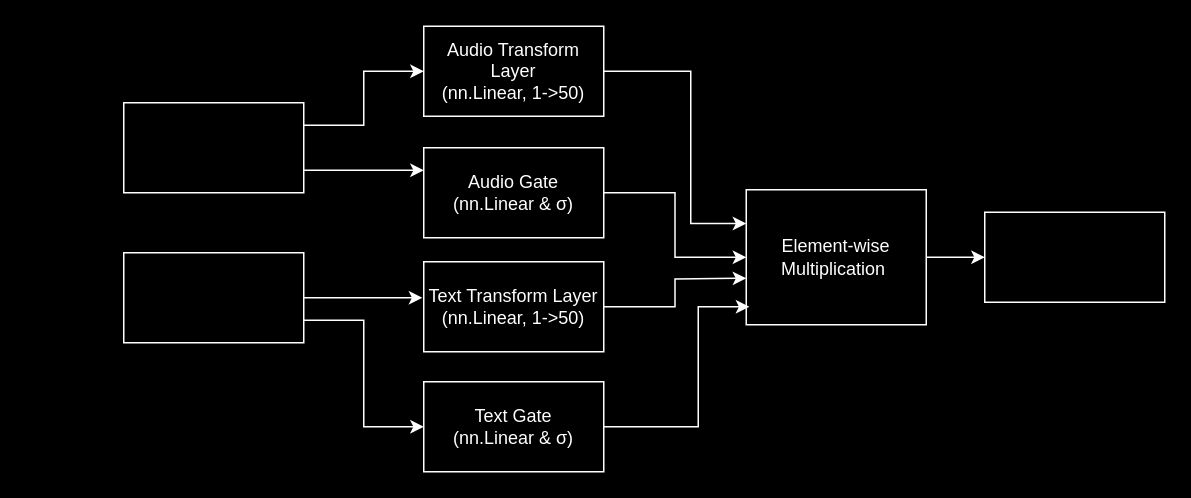
Some shapes in this 1191 by 498 pixel diagram are drawn without their labels. The box of each missing label's shape, as (x1, y1, x2, y2) in pixels:
Final Prediction: (983, 211, 1165, 302)
Output Audio: (122, 101, 304, 193)
Output Text: (122, 251, 304, 343)
